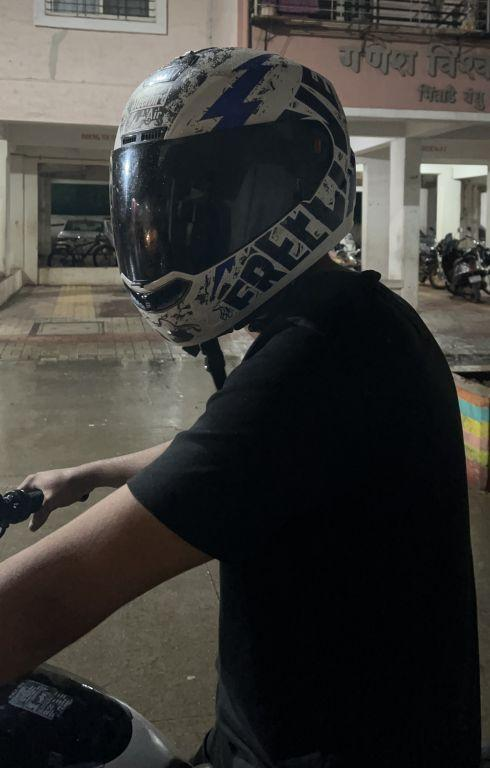helmet: (95, 30, 368, 364)
